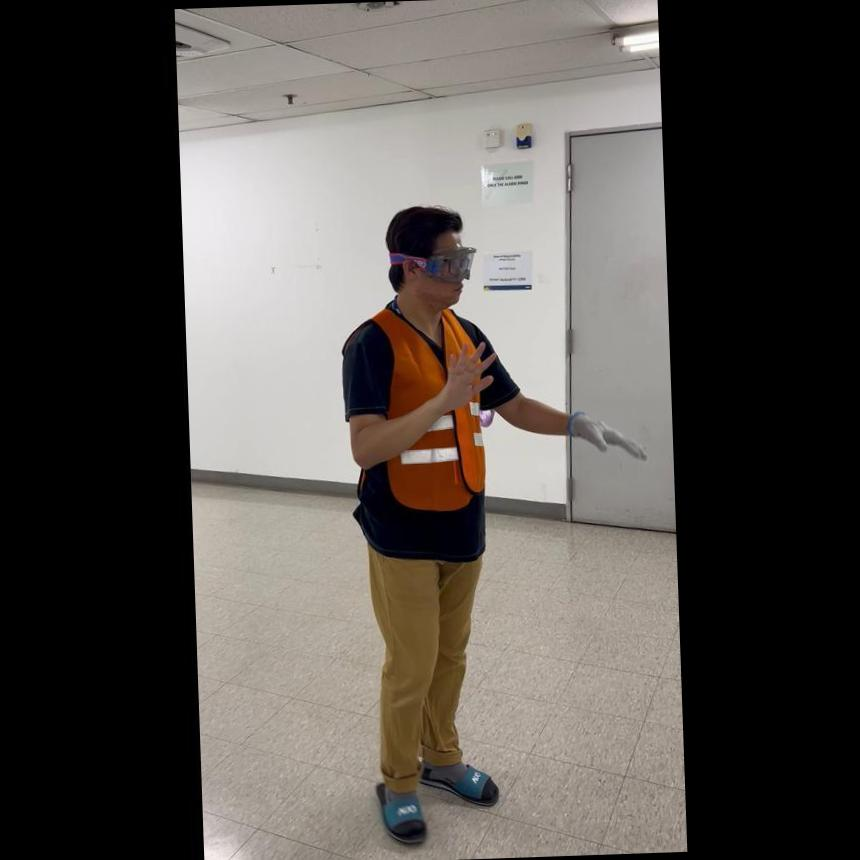Gloves: (563, 402, 644, 466)
No-gloves: (426, 329, 499, 408)
